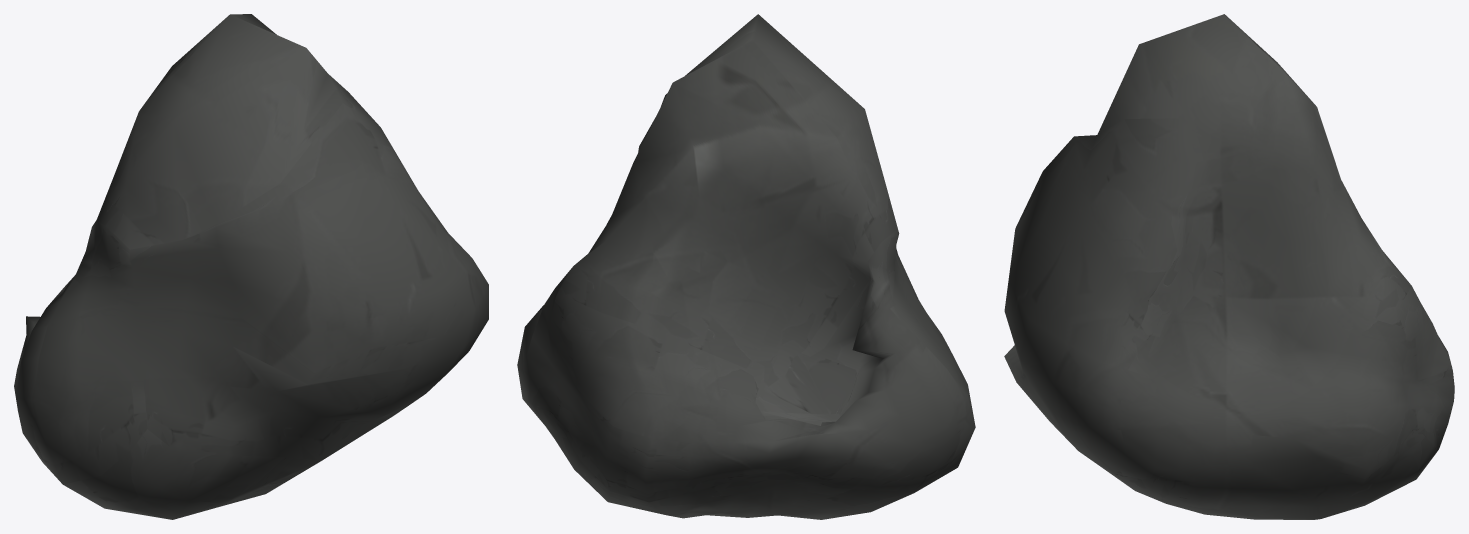
File: Stone2.fbx
3 views of the same model, side by side, from view 1: azimuth 30°, elevation 25°; view 2: azimuth 150°, elevation 25°; view 3: azimuth 270°, elevation 25° (orthographic). The views are drawn at different scales.
Visible parts, largest first — view 1: Cube; view 2: Cube; view 3: Cube.
Part boxes in pixels (x1,y1,x2,y2): Cube: (14,14,488,519); Cube: (517,14,975,519); Cube: (1004,14,1454,519).
Size of the model in its own units: 95.03 by 104 by 87.2.
1 material, 1 textured.
